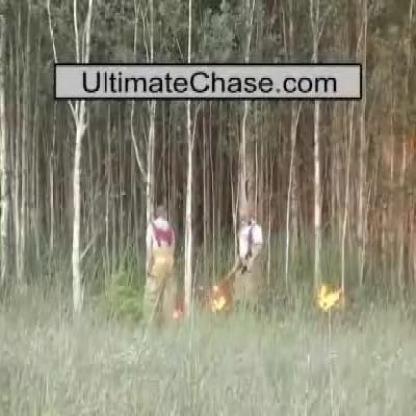foggia-v2-map80-epoch100 - v1 4323: (318, 286, 340, 309), (212, 286, 226, 310)
